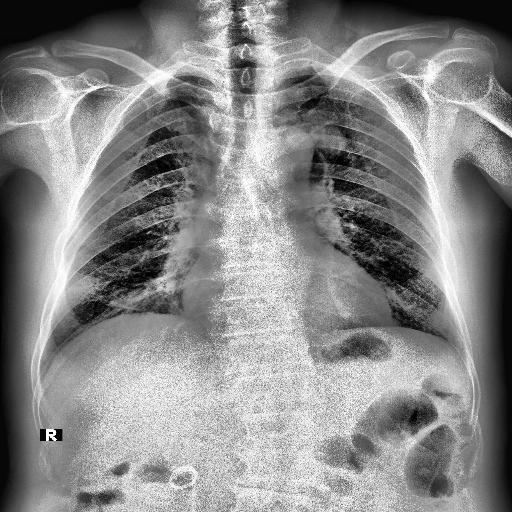0- Aortic enlargement: (253, 126, 313, 188), (256, 126, 314, 181), (254, 125, 314, 173)
7- Lung Opacity: (286, 121, 325, 149), (312, 124, 346, 156)
8- Nodule-Mass: (312, 123, 347, 155), (312, 124, 346, 154), (286, 122, 320, 150)
